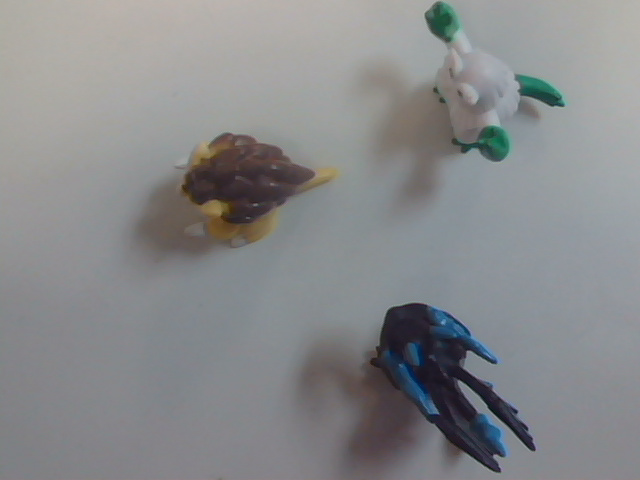abomasnow: (371, 6, 583, 200)
charizard: (348, 275, 568, 480)
sandslash: (160, 87, 342, 282)
